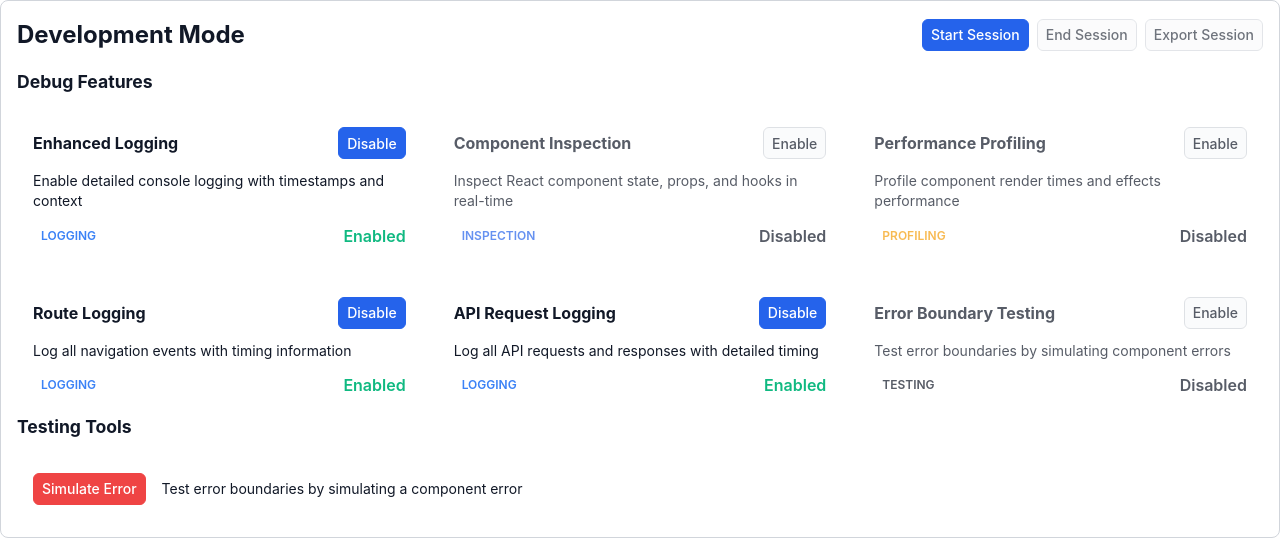
DevMode Component › toggles features on/off
Note: Click to disable
Click the button "Disable" next to "Enhanced Logging" at point(372, 143), box x1=338 y1=127 x2=406 y2=159
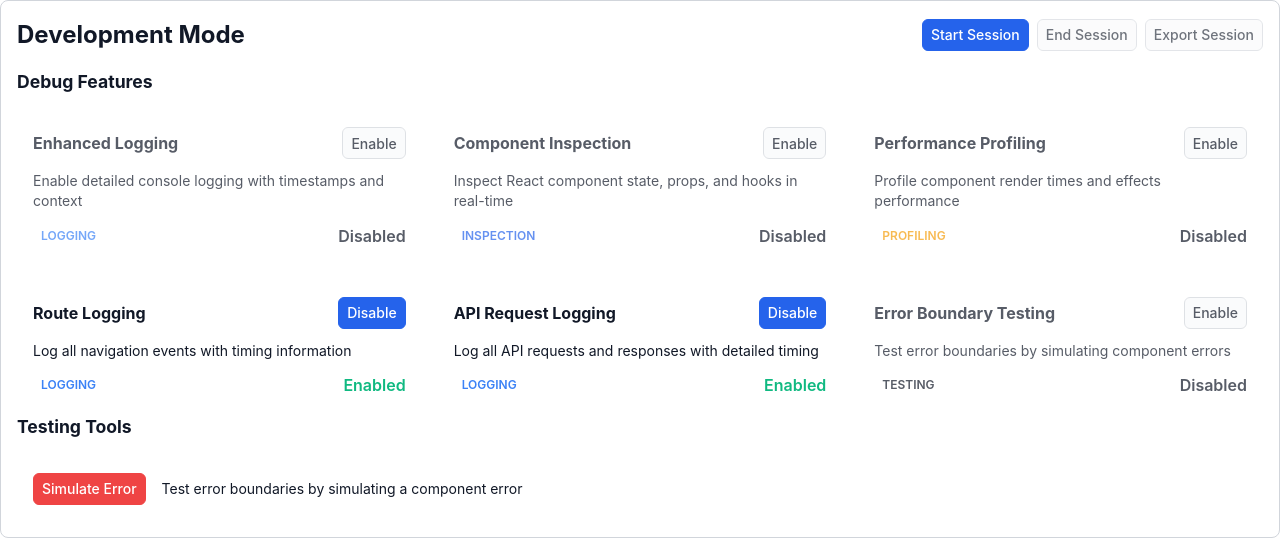
Expected: the button "Enable" in the row of "Enhanced Logging" is shown
Note: Click to enable again
Click the button "Enable" in the row of "Enhanced Logging" at point(374, 143), box x1=342 y1=127 x2=406 y2=159
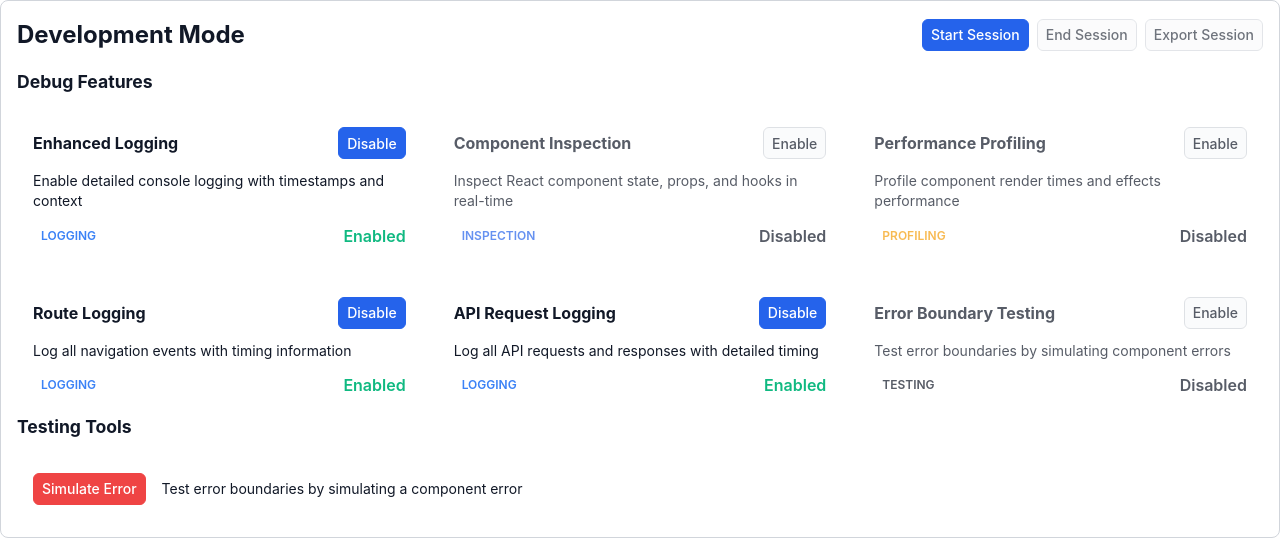
Expected: the button "Disable" next to "Enhanced Logging" is shown, x1=338 y1=127 x2=406 y2=159
